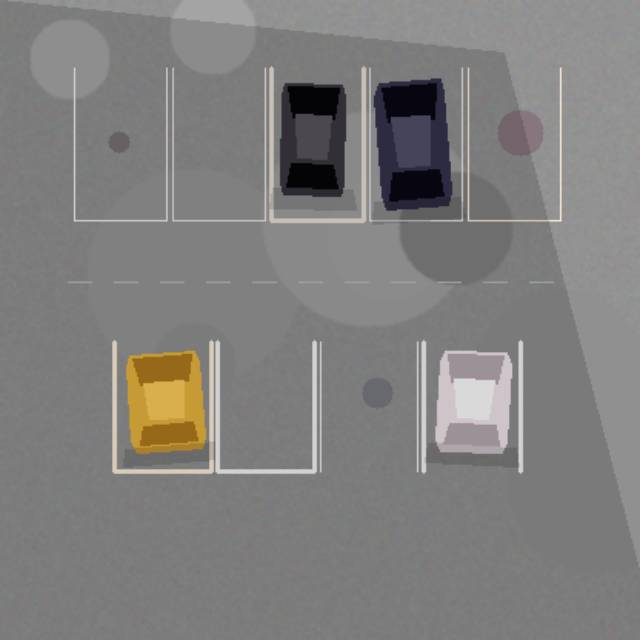space-empty: (172, 68, 265, 220), (74, 68, 166, 220), (468, 68, 560, 220), (217, 342, 314, 471), (320, 342, 417, 471)
space-occupied: (369, 68, 462, 220), (271, 68, 363, 220), (114, 342, 211, 471), (423, 342, 520, 471)
